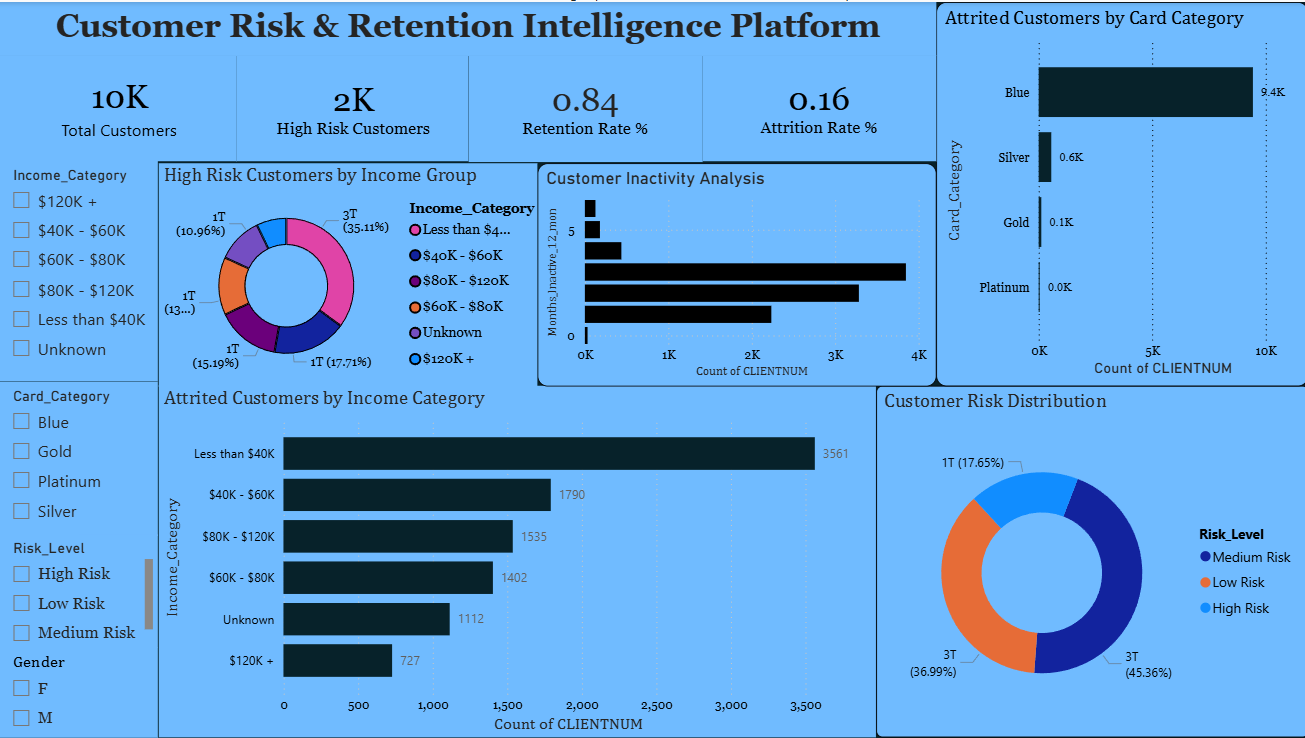

What the dashboard file says about the page in this screenshot:
{"tool":"powerbi","page":{"name":"Page 1","canvas":[1280,720],"ordinal":0},"visuals":[{"type":"cardVisual","fields":{"Data":["Customer_Risk_Analytics.Total Customers"]},"box":[0,52.9,231.4,102.9],"z":0},{"type":"cardVisual","fields":{"Data":["Customer_Risk_Analytics.Retention Rate %"]},"box":[458.6,52.9,228.6,104.3],"z":1000},{"type":"cardVisual","fields":{"Data":["Customer_Risk_Analytics.High Risk Customers"]},"box":[231.4,52.9,227.1,102.9],"z":2000},{"type":"donutChart","title":"Customer Risk Distribution","fields":{"Y":["Sum(Customer_Risk_Analytics.CLIENTNUM)"],"Category":["Customer_Risk_Analytics.Risk_Level"]},"box":[857.1,375.7,422.9,344.3],"z":3000},{"type":"clusteredBarChart","title":"Attrited Customers by Income Category","fields":{"Category":["Customer_Risk_Analytics.Income_Category"],"Y":["Count(Customer_Risk_Analytics.CLIENTNUM)"]},"box":[155.7,375.7,701.4,344.3],"z":4000},{"type":"clusteredBarChart","title":"Attrited Customers by Card Category","fields":{"Category":["Customer_Risk_Analytics.Card_Category"],"Y":["Count(Customer_Risk_Analytics.CLIENTNUM)"]},"box":[915.7,0,364.3,375.7],"z":5000},{"type":"textbox","box":[0,0,915.7,52.9],"z":6000},{"type":"cardVisual","fields":{"Data":["Customer_Risk_Analytics.Attrition Rate %"]},"box":[687.1,52.9,228.6,102.9],"z":7000},{"type":"clusteredBarChart","title":"Customer Inactivity Analysis","fields":{"Category":["Customer_Risk_Analytics.Months_Inactive_12_mon"],"Y":["CountNonNull(Customer_Risk_Analytics.CLIENTNUM)"]},"box":[525.7,157.1,390,218.6],"z":8000},{"type":"donutChart","title":"High Risk Customers by Income Group","fields":{"Category":["Customer_Risk_Analytics.Income_Category"],"Y":["Sum(Customer_Risk_Analytics.CLIENTNUM)"]},"box":[155.7,157.1,370,218.6],"z":9000},{"type":"slicer","fields":{"Values":["Customer_Risk_Analytics.Income_Category"]},"box":[0,155.7,154.3,215.7],"z":10000},{"type":"slicer","fields":{"Values":["Customer_Risk_Analytics.Card_Category"]},"box":[0,371.4,154.3,150],"z":11000},{"type":"slicer","fields":{"Values":["Customer_Risk_Analytics.Risk_Level"]},"box":[0,521.4,154.3,110],"z":12000},{"type":"slicer","fields":{"Values":["Customer_Risk_Analytics.Gender"]},"box":[0,631.4,154.3,88.6],"z":13000}]}

Visuals, with their boxes in screenshot pixels (x1, y1, x2, y2), scaled from the page's 1280x720 canvas onto the 1305x738 screenshot:
cardVisual - Customer_Risk_Analytics.Total Customers: box=[0, 54, 236, 160]
cardVisual - Customer_Risk_Analytics.Retention Rate %: box=[468, 54, 701, 161]
cardVisual - Customer_Risk_Analytics.High Risk Customers: box=[236, 54, 467, 160]
"Customer Risk Distribution" donutChart: box=[874, 385, 1304, 737]
"Attrited Customers by Income Category" clusteredBarChart: box=[159, 385, 874, 737]
"Attrited Customers by Card Category" clusteredBarChart: box=[934, 0, 1304, 385]
textbox: box=[0, 0, 934, 54]
cardVisual - Customer_Risk_Analytics.Attrition Rate %: box=[701, 54, 934, 160]
"Customer Inactivity Analysis" clusteredBarChart: box=[536, 161, 934, 385]
"High Risk Customers by Income Group" donutChart: box=[159, 161, 536, 385]
slicer - Customer_Risk_Analytics.Income_Category: box=[0, 160, 157, 381]
slicer - Customer_Risk_Analytics.Card_Category: box=[0, 381, 157, 534]
slicer - Customer_Risk_Analytics.Risk_Level: box=[0, 534, 157, 647]
slicer - Customer_Risk_Analytics.Gender: box=[0, 647, 157, 737]
